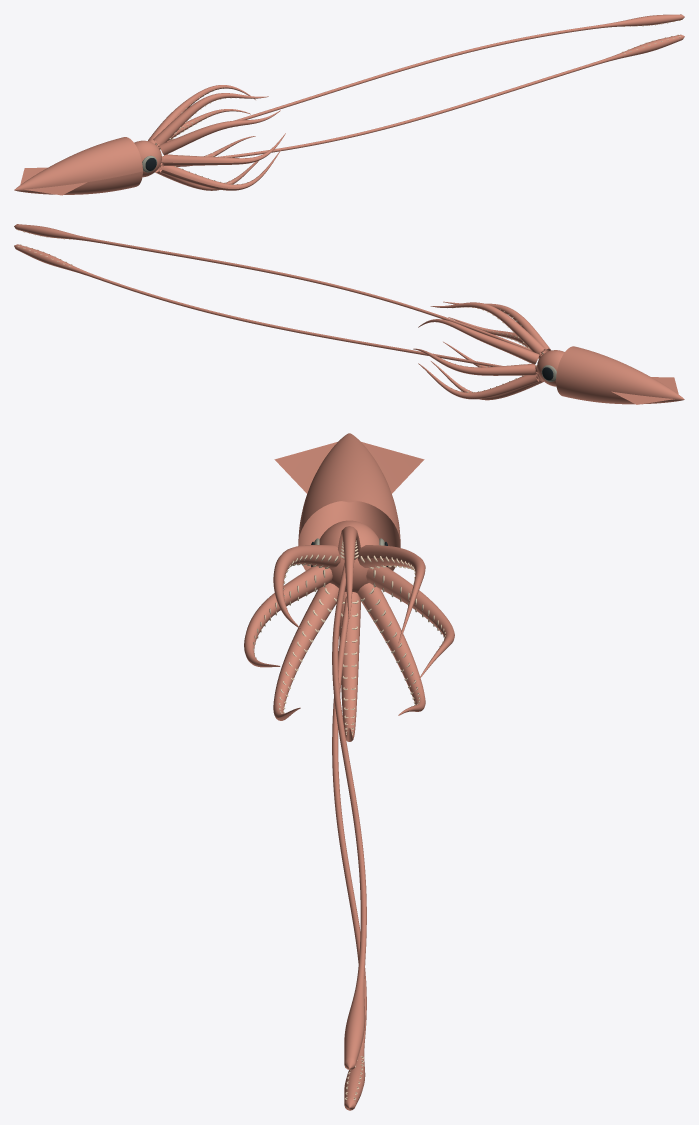
Rendered from earth3d3-giant-squid.glb.
3 views of the same model, one above another, from view 1: azimuth 30°, elevation 25°; view 2: azimuth 150°, elevation 25°; view 3: azimuth 270°, elevation 25° (orthographic). The views are drawn at different scales.
Parts seen in each view (by area): view 1: Authored muted red mantle and arms, Pale sucker rims and underside; view 2: Authored muted red mantle and arms; view 3: Authored muted red mantle and arms, Pale sucker rims and underside.
Boxes of the visible parts, bbox=[...] form: Authored muted red mantle and arms: bbox=[14, 14, 684, 195]; Pale sucker rims and underside: bbox=[155, 20, 680, 184]; Authored muted red mantle and arms: bbox=[14, 224, 684, 404]; Authored muted red mantle and arms: bbox=[244, 433, 454, 1110]; Pale sucker rims and underside: bbox=[253, 540, 445, 1100].
Size of the model in its own units: 13 by 1.78 by 1.77.
